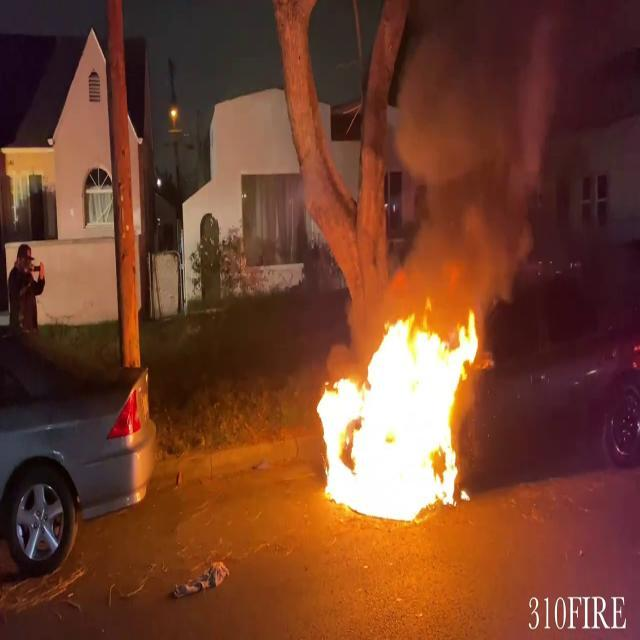Fire: (307, 297, 487, 525)
Smoke: (368, 1, 578, 295)
